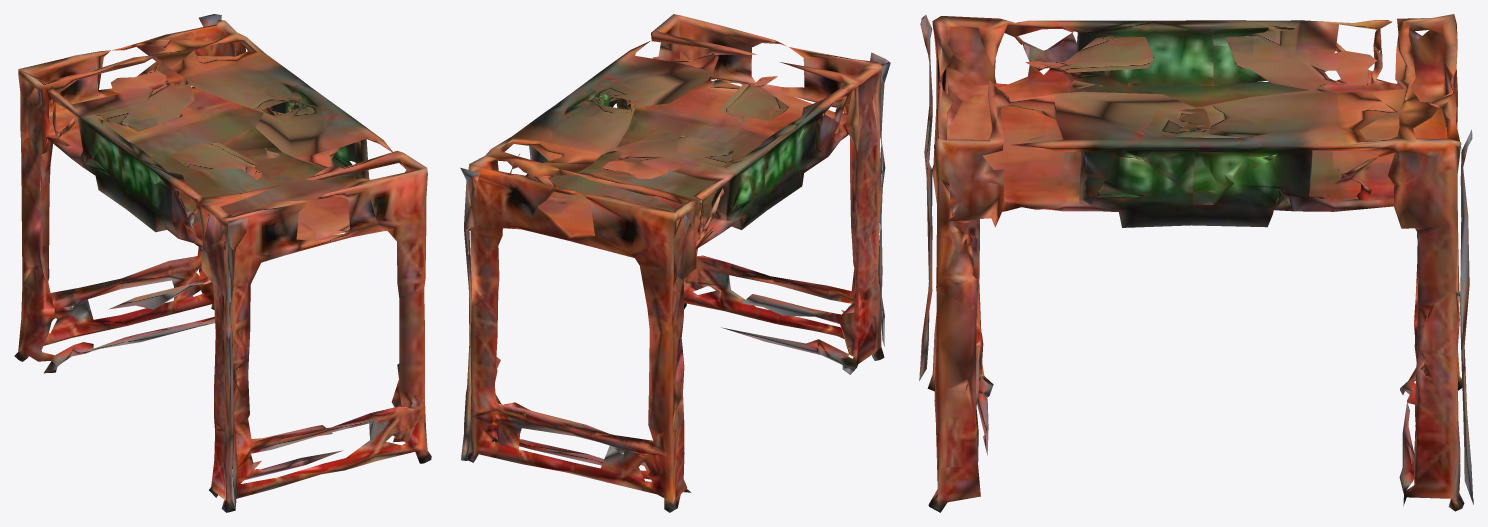
The model's file is start-arch.glb.
The picture shows the model from 3 angles, left to right: view 1: azimuth 30°, elevation 25°; view 2: azimuth 150°, elevation 25°; view 3: azimuth 270°, elevation 25°; orthographic projection. The views are drawn at different scales.
Parts seen in each view (by area): view 1: tripo_node_93d59487-78a5-495b-b86c-b1c7496f1ff7; view 2: tripo_node_93d59487-78a5-495b-b86c-b1c7496f1ff7; view 3: tripo_node_93d59487-78a5-495b-b86c-b1c7496f1ff7.
Boxes of the visible parts, x1,y1,x2,y2 form: tripo_node_93d59487-78a5-495b-b86c-b1c7496f1ff7: [14, 14, 431, 512]; tripo_node_93d59487-78a5-495b-b86c-b1c7496f1ff7: [460, 14, 890, 512]; tripo_node_93d59487-78a5-495b-b86c-b1c7496f1ff7: [919, 14, 1473, 512].
Bounding box in the file's own units: 0.4464 × 0.6059 × 0.8058.
1 material, 1 textured.
